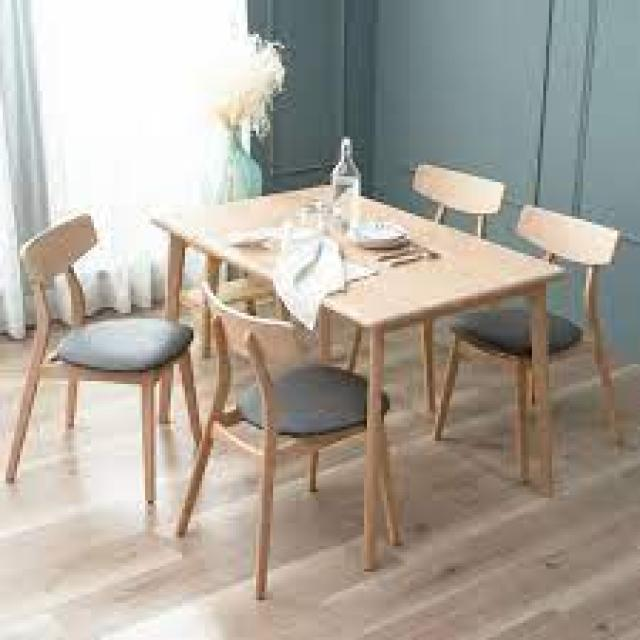table: (13, 157, 640, 592)
